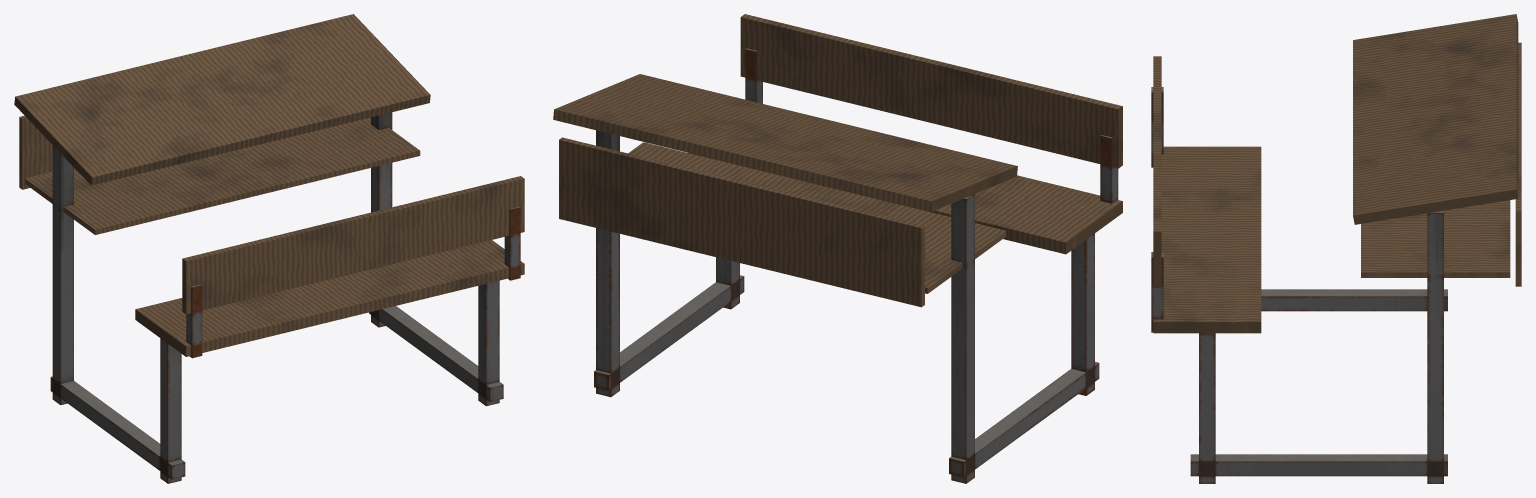
The model's file is SM_SchoolDesk_Soviet.fbx.
3 renders of one model, left to right at view 1: azimuth 30°, elevation 25°; view 2: azimuth 150°, elevation 25°; view 3: azimuth 270°, elevation 25°, orthographic. The views are drawn at different scales.
Parts seen in each view (by area): view 1: SM_SchoolDesk_Soviet; view 2: SM_SchoolDesk_Soviet; view 3: SM_SchoolDesk_Soviet.
Boxes of the visible parts, bbox=[...] form: SM_SchoolDesk_Soviet: bbox=[14, 14, 524, 483]; SM_SchoolDesk_Soviet: bbox=[553, 14, 1122, 483]; SM_SchoolDesk_Soviet: bbox=[1151, 14, 1521, 483].
Bounding box in the file's own units: 1 × 0.787 × 0.8925.
1 material, 1 textured.
